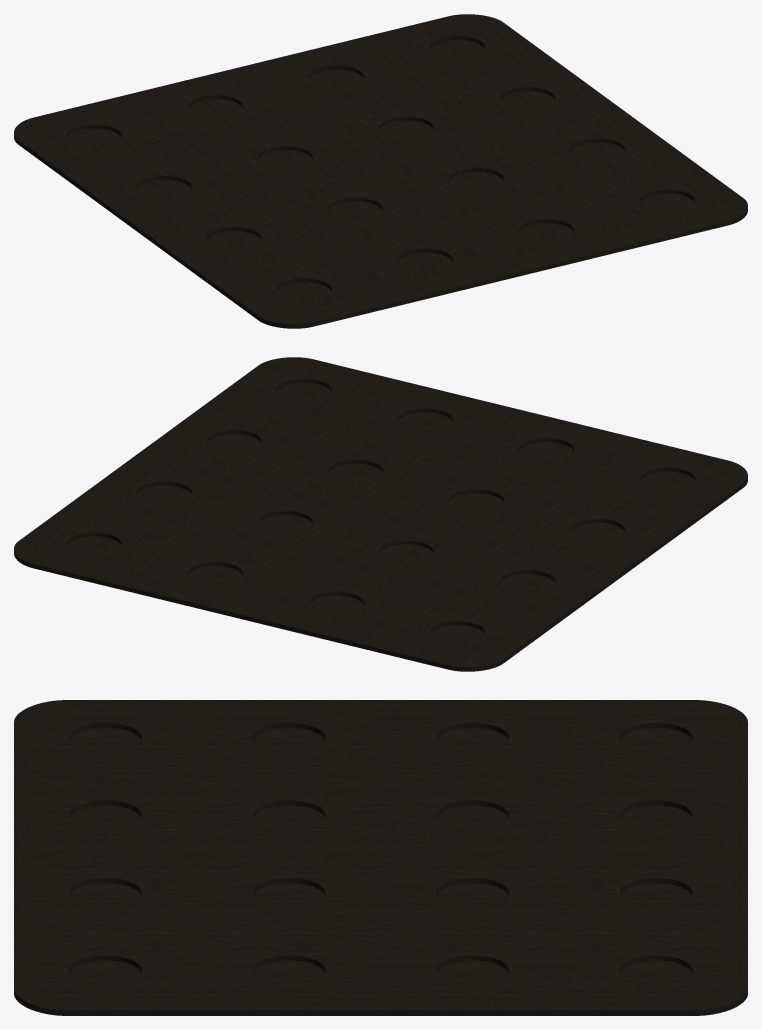
The model's file is newGameboard.glb.
The picture shows the model from 3 angles, top to bottom: view 1: azimuth 30°, elevation 25°; view 2: azimuth 150°, elevation 25°; view 3: azimuth 270°, elevation 25°; orthographic projection. The views are drawn at different scales.
Visible parts, largest first — view 1: Cube; view 2: Cube; view 3: Cube.
Part boxes in pixels (box(x1,y1,x2,y2)): Cube: box(14, 14, 747, 328); Cube: box(14, 357, 747, 671); Cube: box(14, 700, 747, 1015).
Size of the model in its own units: 20 by 0.2 by 20.
Materials: 1 (1 with a texture image).
